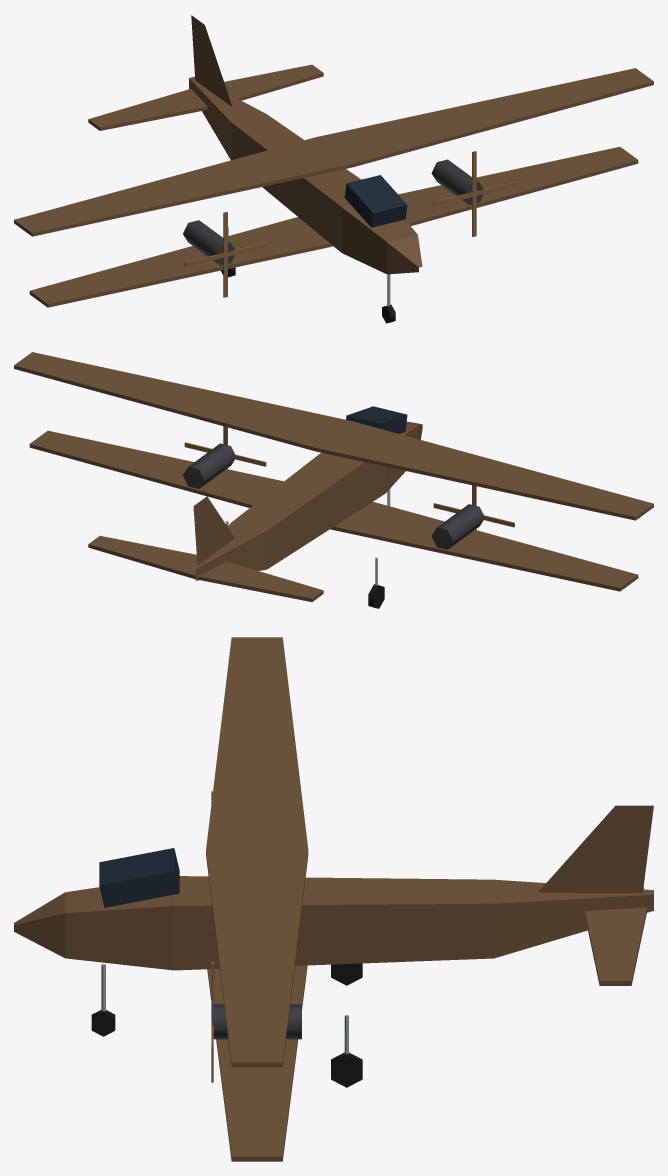
Rendered from veh_air_bomber_a05_lod2.glb.
The picture shows the model from 3 angles, top to bottom: view 1: azimuth 30°, elevation 25°; view 2: azimuth 150°, elevation 25°; view 3: azimuth 270°, elevation 25°; orthographic projection. The views are drawn at different scales.
Visible parts, largest first — view 1: body, propeller_0, propeller_1; view 2: body, propeller_0, gear_1, propeller_1; view 3: body, gear_2, gear_0.
Part boxes in pixels (x1=…): body: x1=14, y1=15, x2=653, y2=307; propeller_0: x1=184, y1=212, x2=266, y2=297; propeller_1: x1=433, y1=151, x2=514, y2=236; body: x1=14, y1=352, x2=653, y2=601; propeller_0: x1=433, y1=485, x2=514, y2=529; gear_1: x1=368, y1=557, x2=384, y2=608; propeller_1: x1=184, y1=426, x2=266, y2=469; body: x1=14, y1=637, x2=653, y2=1161; gear_2: x1=331, y1=1015, x2=362, y2=1087; gear_0: x1=91, y1=963, x2=115, y2=1036.
Bounding box in the file's own units: 22 × 5.56 × 14.
